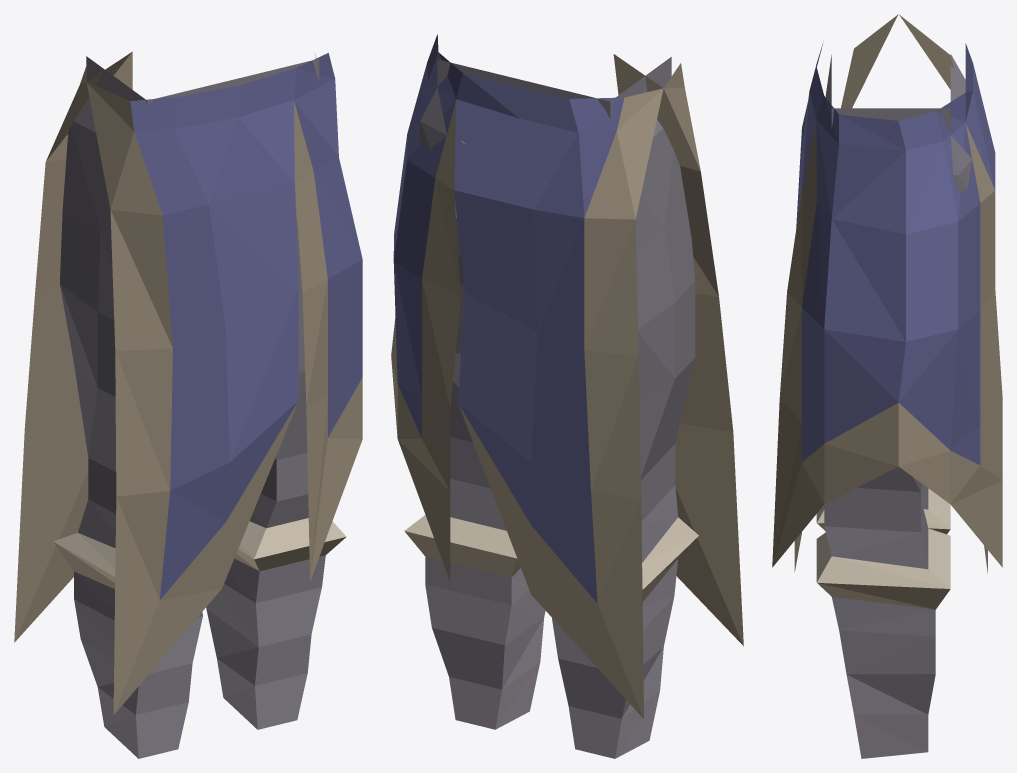
The model's file is player_ancestral_robe_bottom.glb.
3 renders of one model, left to right at view 1: azimuth 30°, elevation 25°; view 2: azimuth 150°, elevation 25°; view 3: azimuth 270°, elevation 25°, orthographic. The views are drawn at different scales.
Size of the model in its own units: 45 by 96.99 by 31.
Materials: 1 (1 with a texture image).
